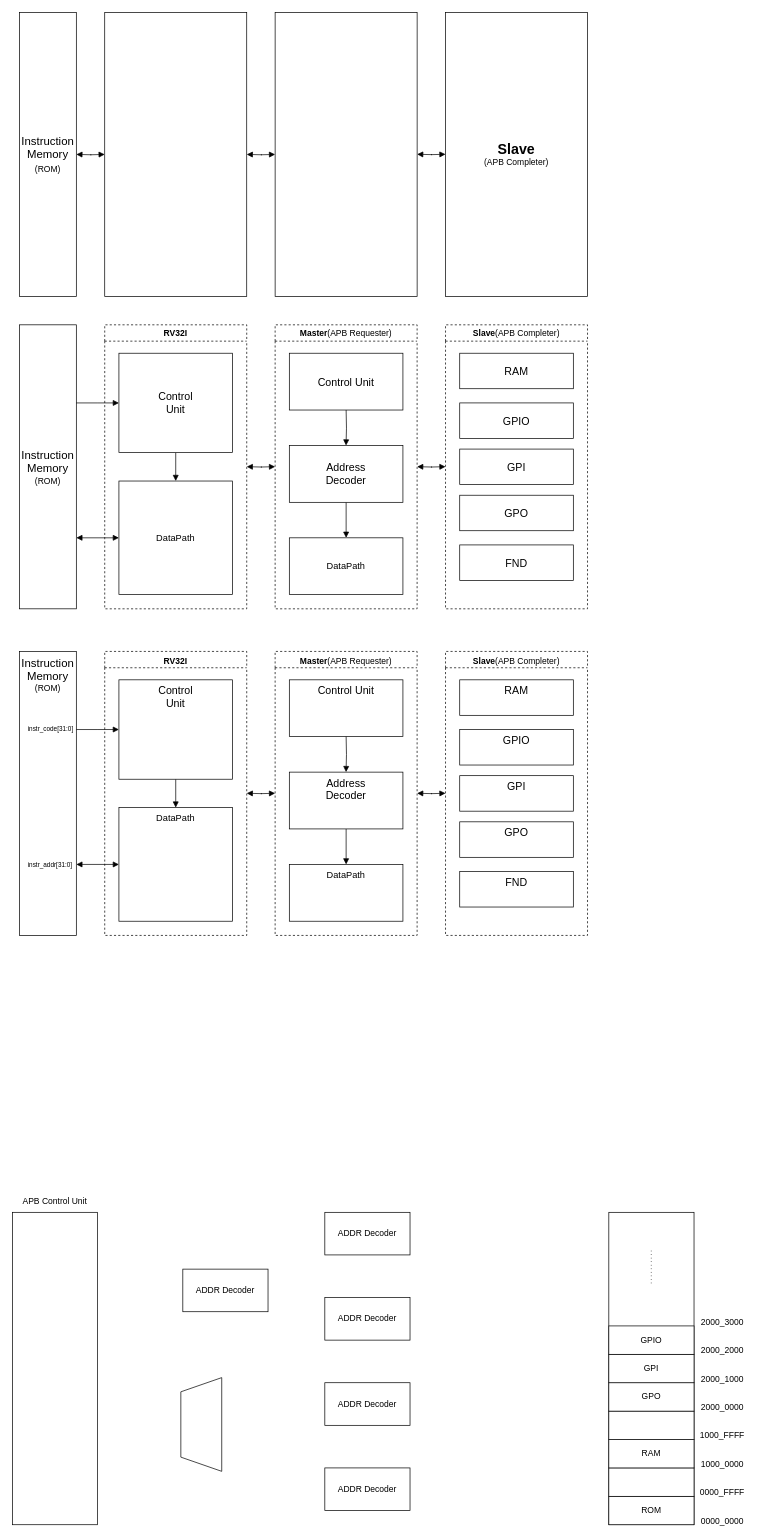
Image size: 757x1539. Some labels were removed from this diagram. The centre of each missing label's shape, as x and y in pixels:
"Manager" belongs at [55,1368].
"Master (APB Reuqester)" belongs at [345,154].
"RV32I (CPU)" belongs at [175,154].
